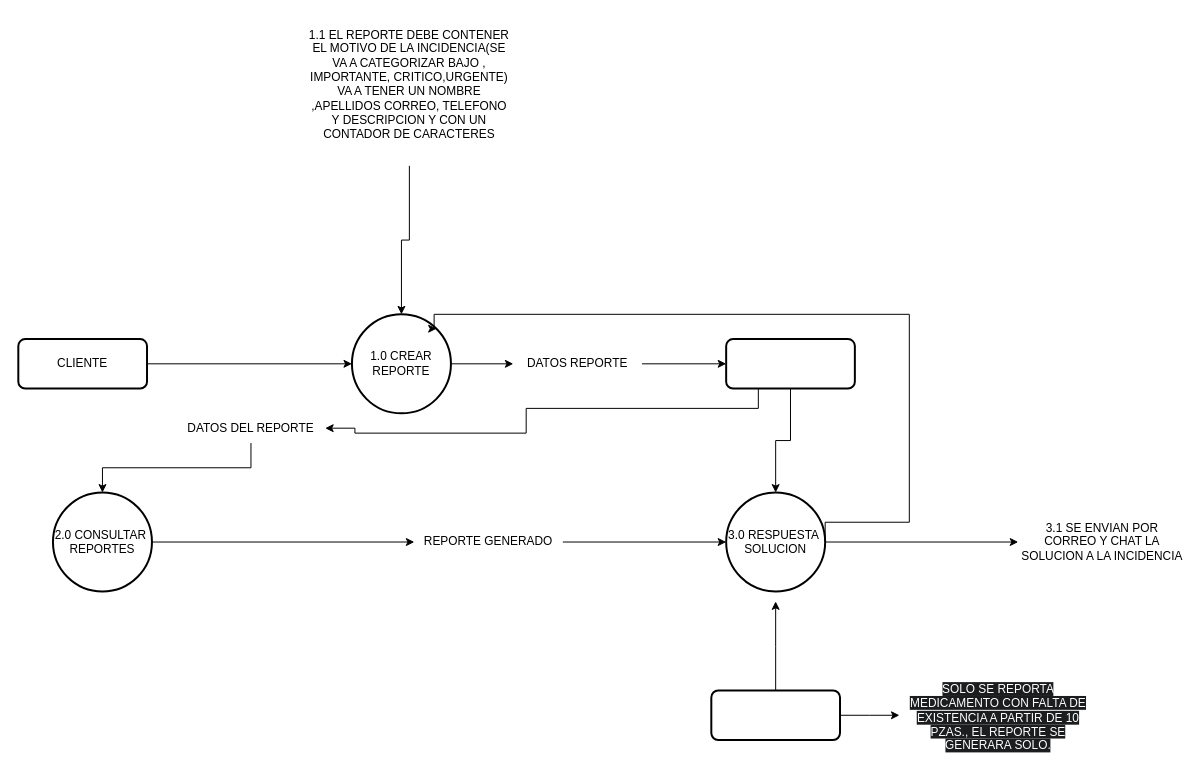
The diagram is 1203 pixels wide and 776 high, and some of its shapes have lost their labels. The shapes that lost their labels are listed below. From the top down, each one's centre as x and y in pixels, then its label:
At pixel 790 363: "DOCTOR".
At pixel 775 715: "ALMACEN".
